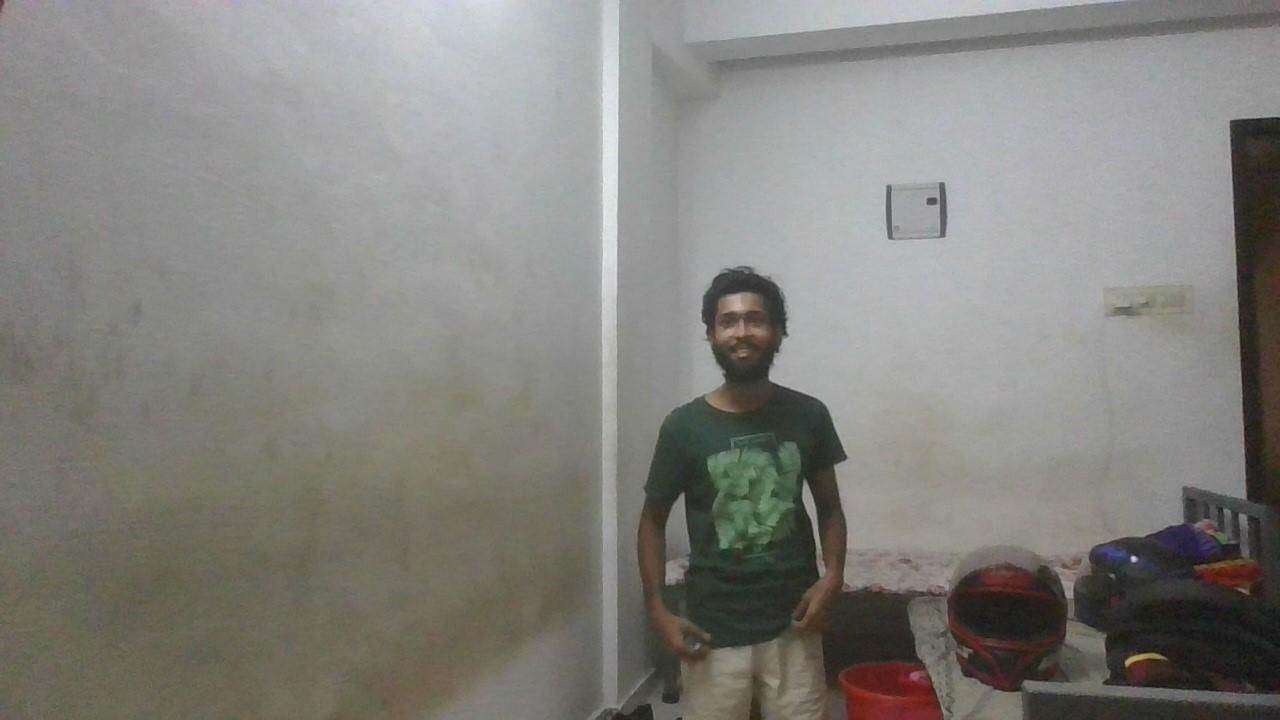nohelmet: (699, 265, 789, 385)
